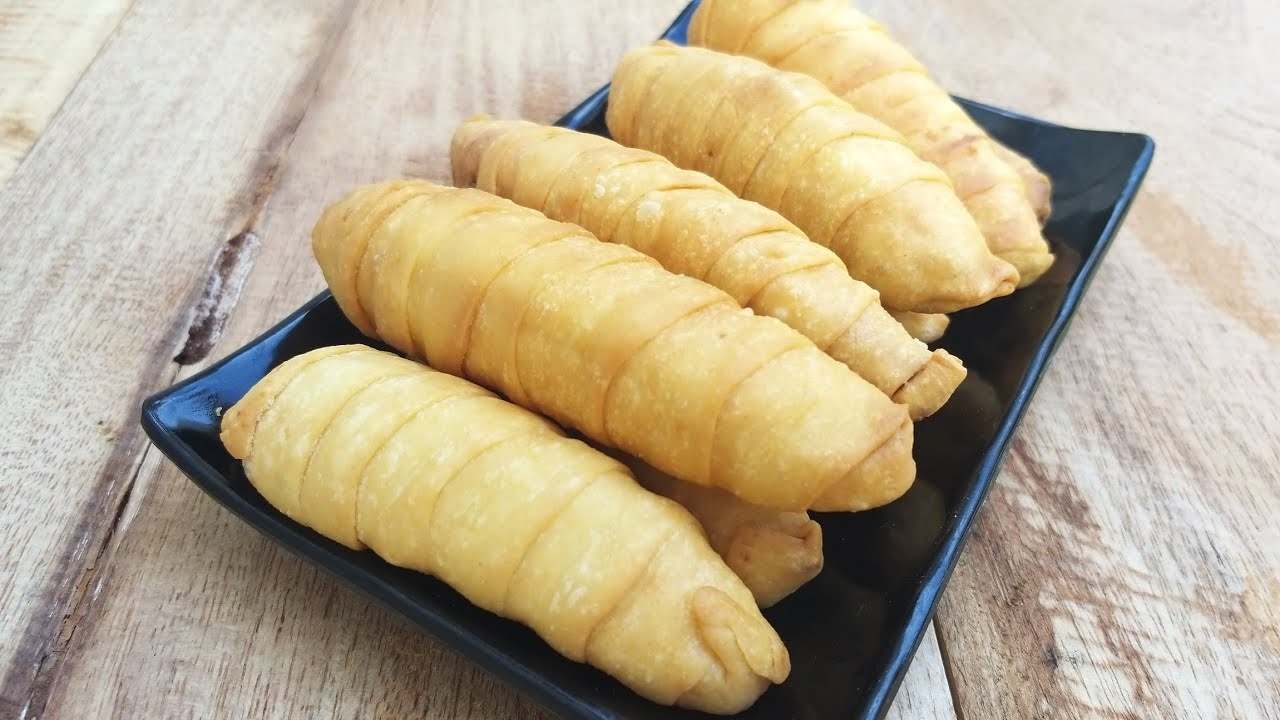pisang_molen: (217, 344, 793, 715), (310, 178, 912, 506), (450, 121, 968, 421), (608, 42, 1018, 311)
